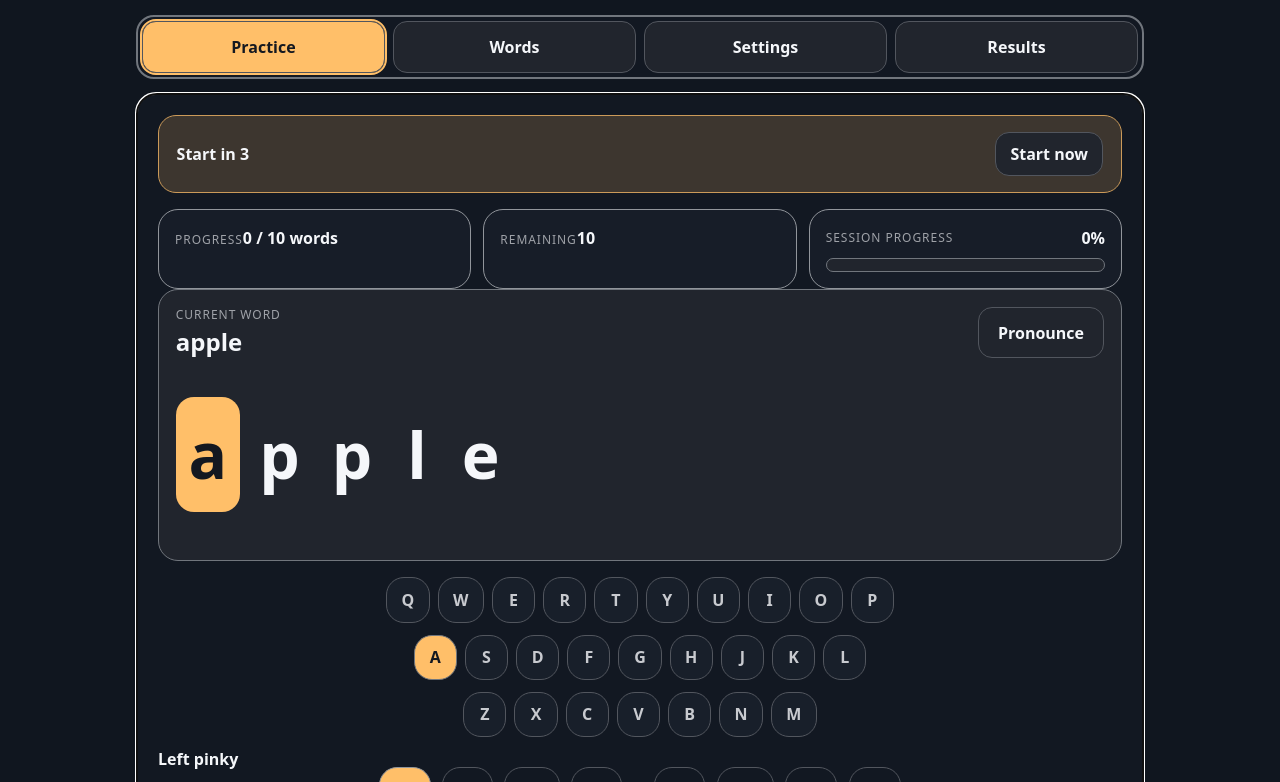
App › keeps bulk action controls visible and returns focus after a bulk action
Click the button "Words" at (514, 47), box [393, 21, 636, 73]
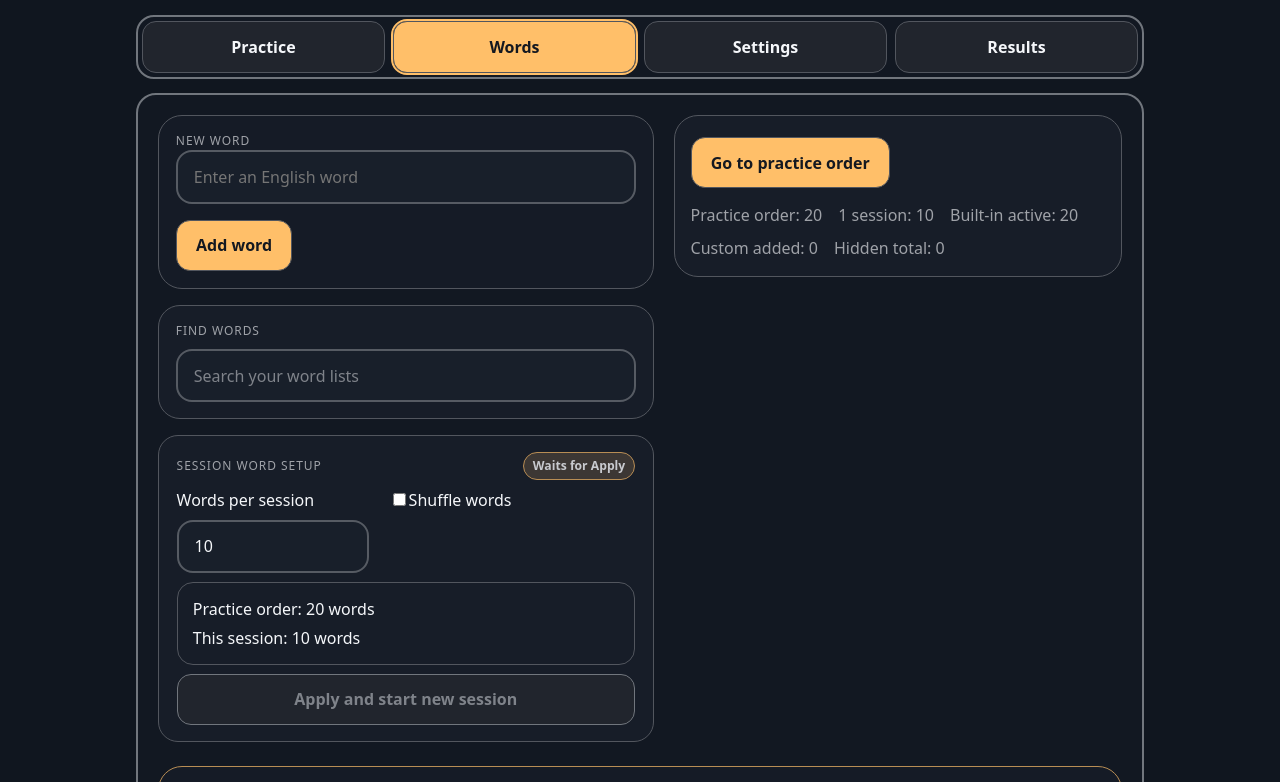
Type "banana" into the field named "New word" at (406, 177), box [176, 150, 636, 204]
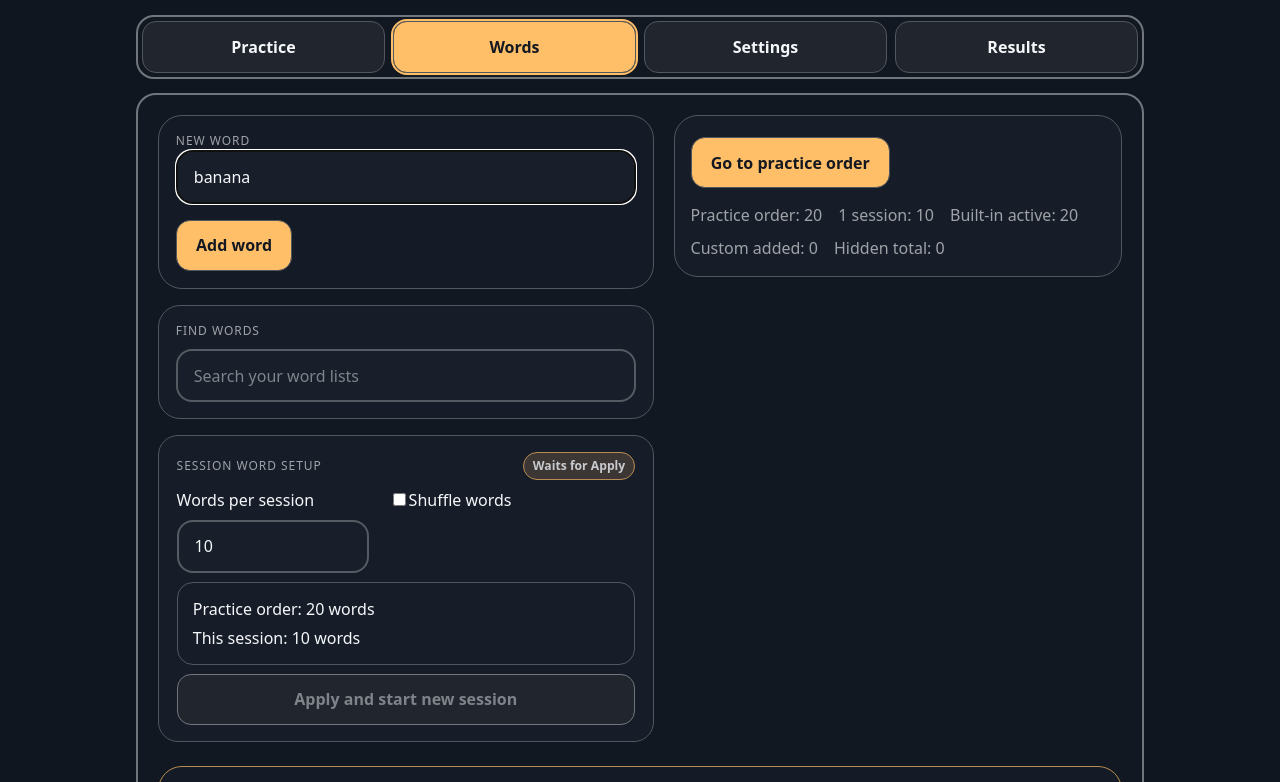
Click the button "Add word" at (234, 245), box [176, 220, 292, 271]
(page scrolled)
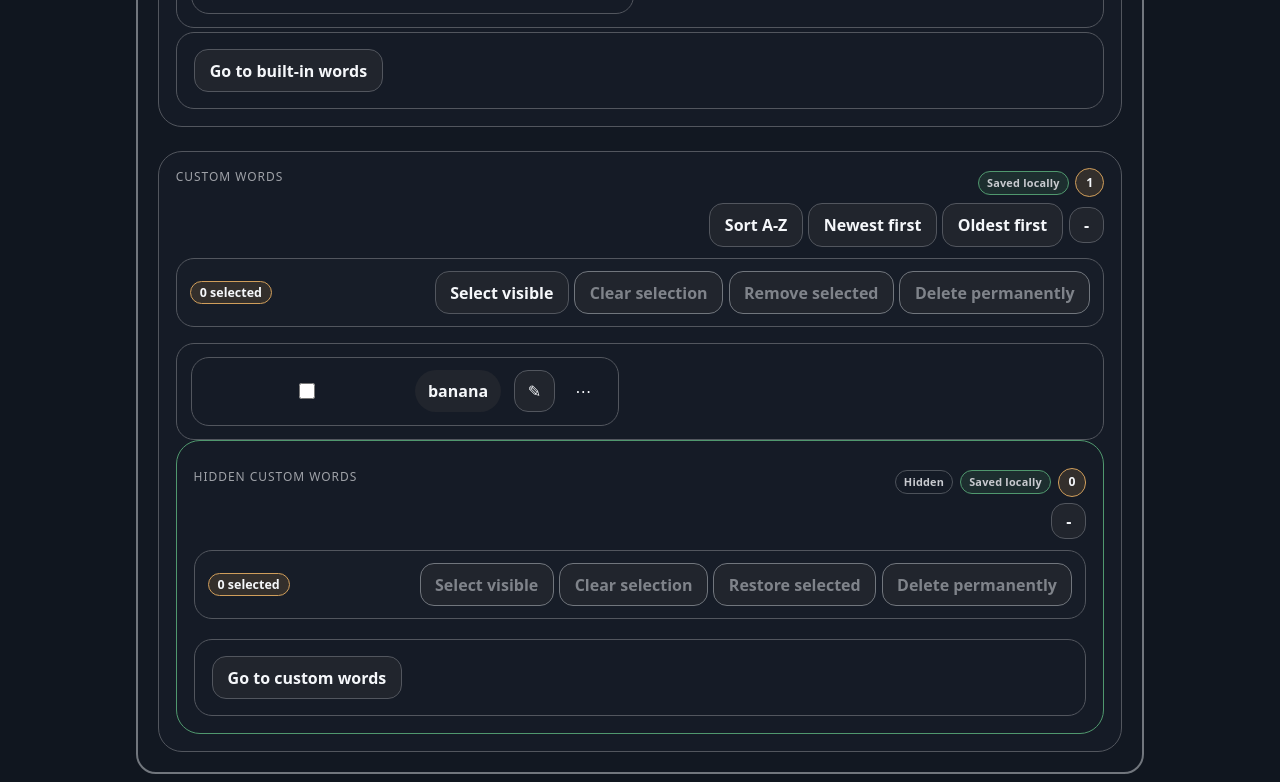
Expected: the text with test id "bulk-selected-count-custom" reads "0 selected", [200, 284, 262, 301]
Expected: the button with test id "bulk-remove-custom-words-button" is disabled, [729, 271, 894, 314]
Expected: the button with test id "bulk-delete-custom-words-button" is disabled, [900, 271, 1090, 314]
Click the checkbox with test id "select-custom-word-checkbox-custom-banana" at (307, 391), box [211, 383, 403, 399]
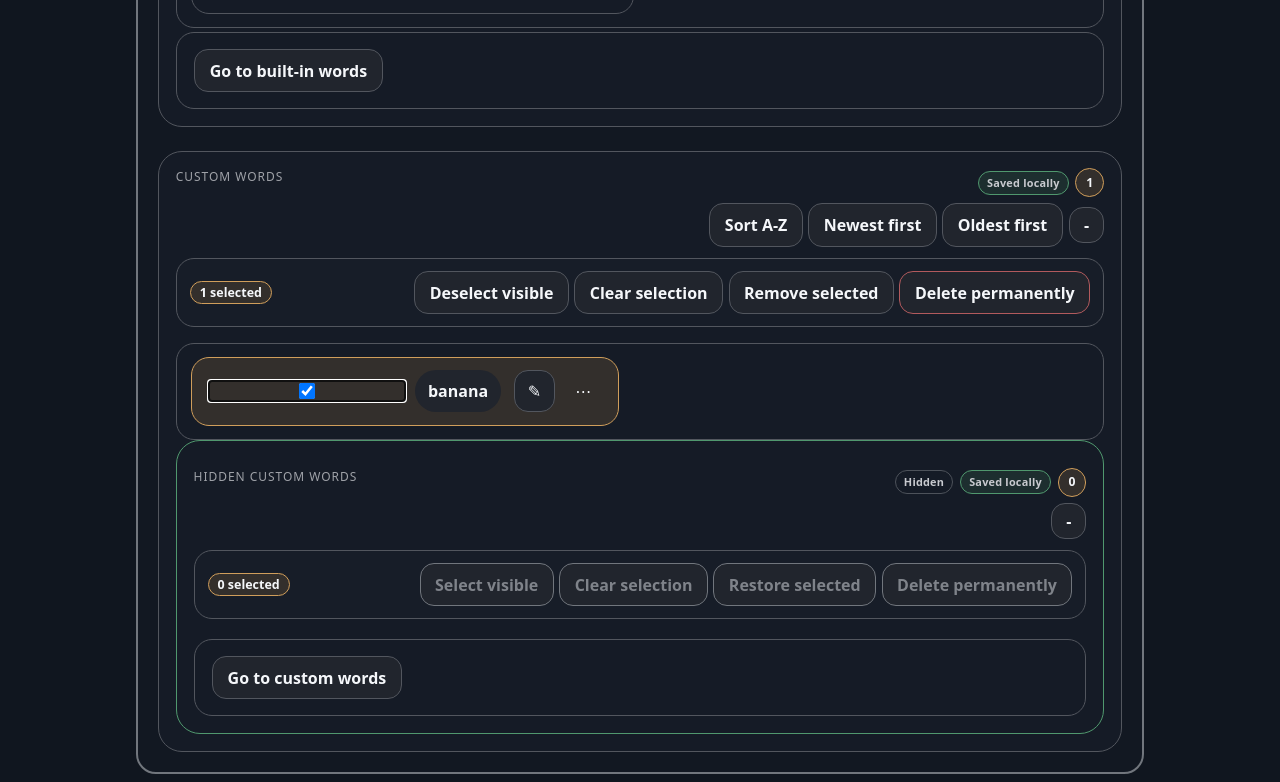
Expected: the text with test id "bulk-selected-count-custom" reads "1 selected", [200, 284, 262, 301]
Click the button with test id "bulk-remove-custom-words-button" at (811, 293), box [729, 271, 894, 314]
(page scrolled)
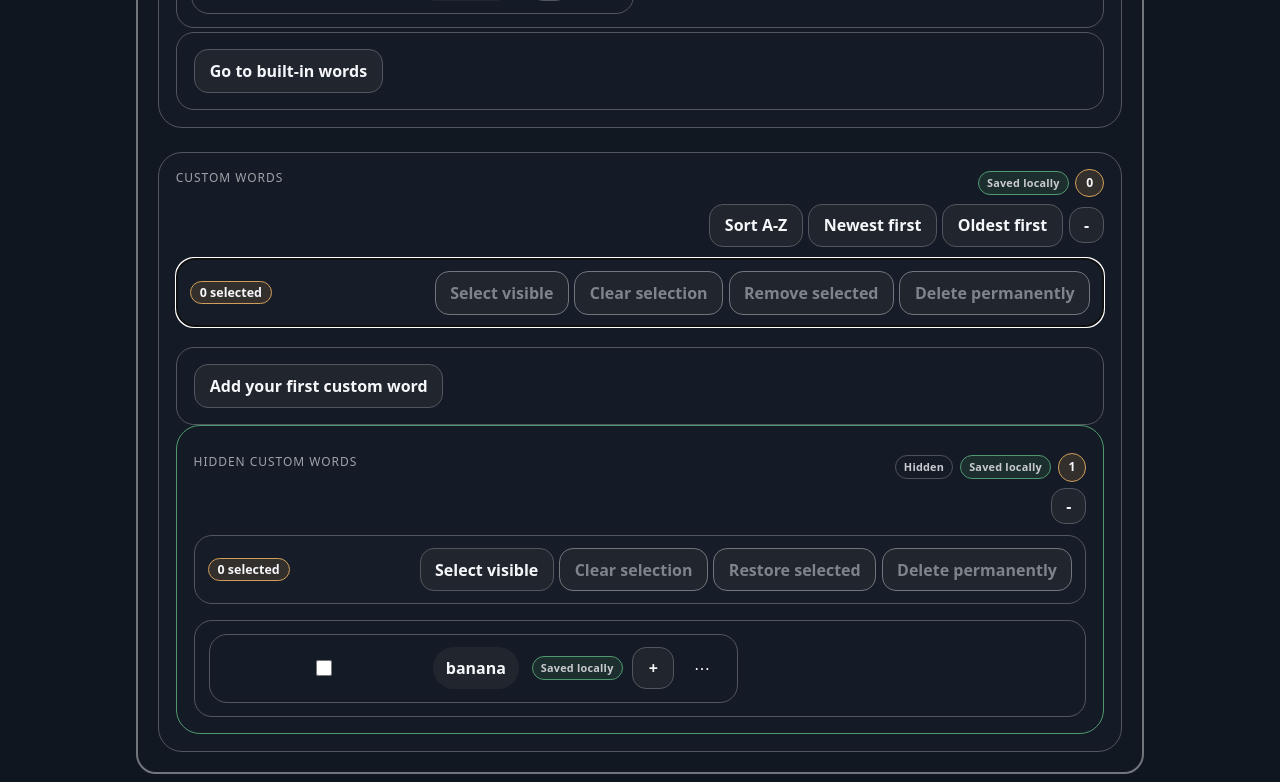
Expected: the text with test id "bulk-selected-count-custom" reads "0 selected", [200, 284, 262, 301]
Expected: the button with test id "bulk-remove-custom-words-button" is disabled, [729, 271, 894, 315]
Expected: the button with test id "bulk-delete-custom-words-button" is disabled, [900, 271, 1090, 315]
